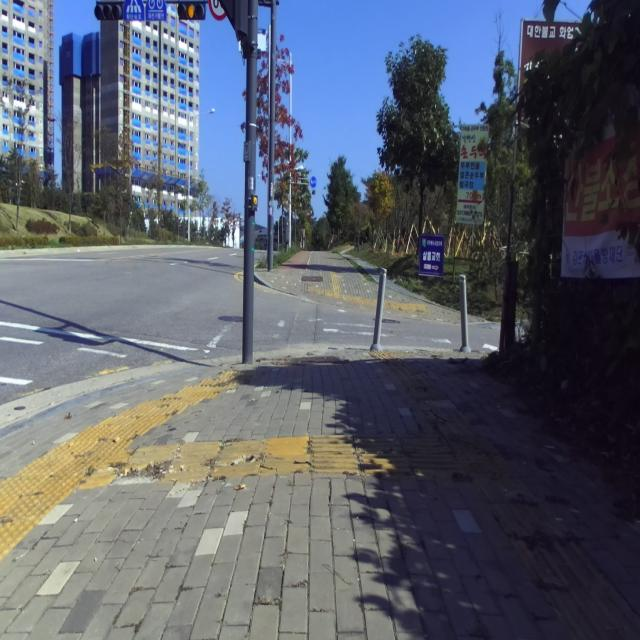횡단보도: (307, 309, 498, 351)
